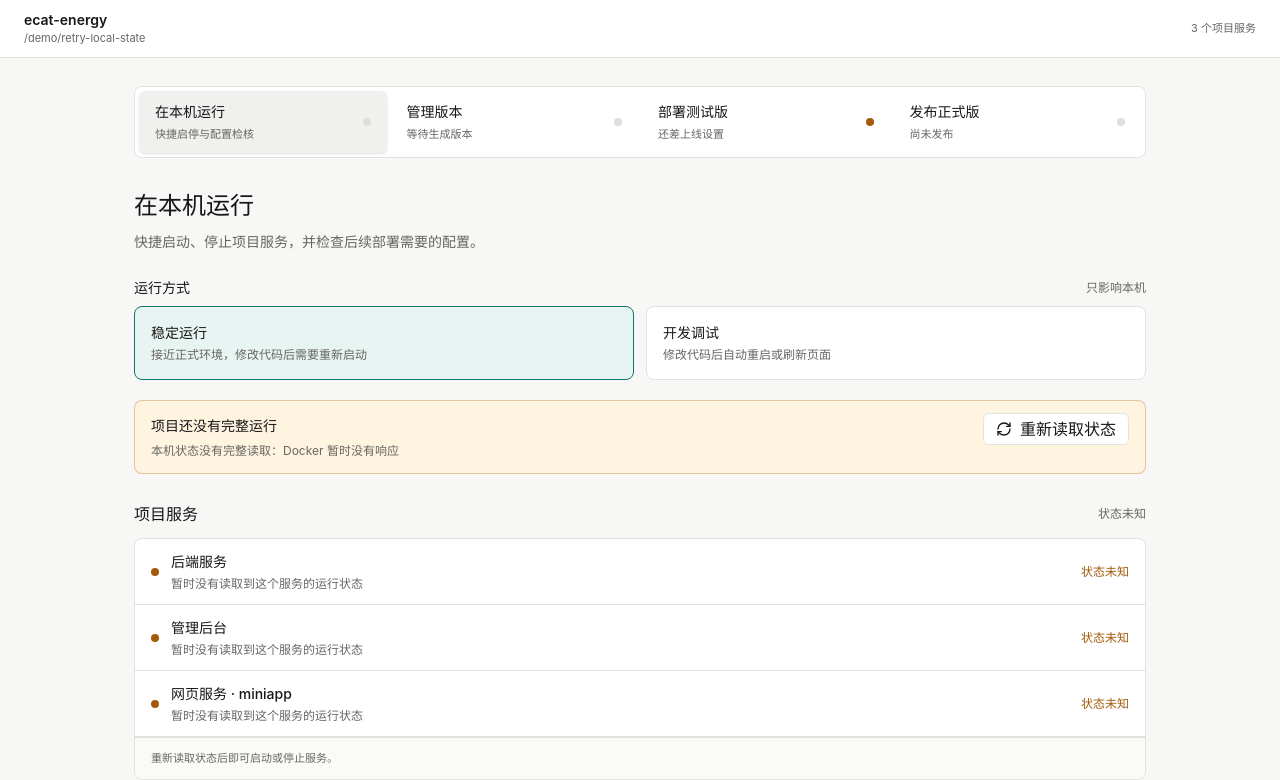
Scenario: ProductWorkspace blocking states › keeps unknown local state honest and lets the user retry
This screenshot has width=1280, height=780.
Expected: the 1st text "状态未知" is shown, x1=1098 y1=506 x2=1146 y2=522
Expected: the button "一键启动全部" is not shown
Click the button "重新读取状态".
click(1056, 429)  # box x1=983 y1=413 x2=1129 y2=445
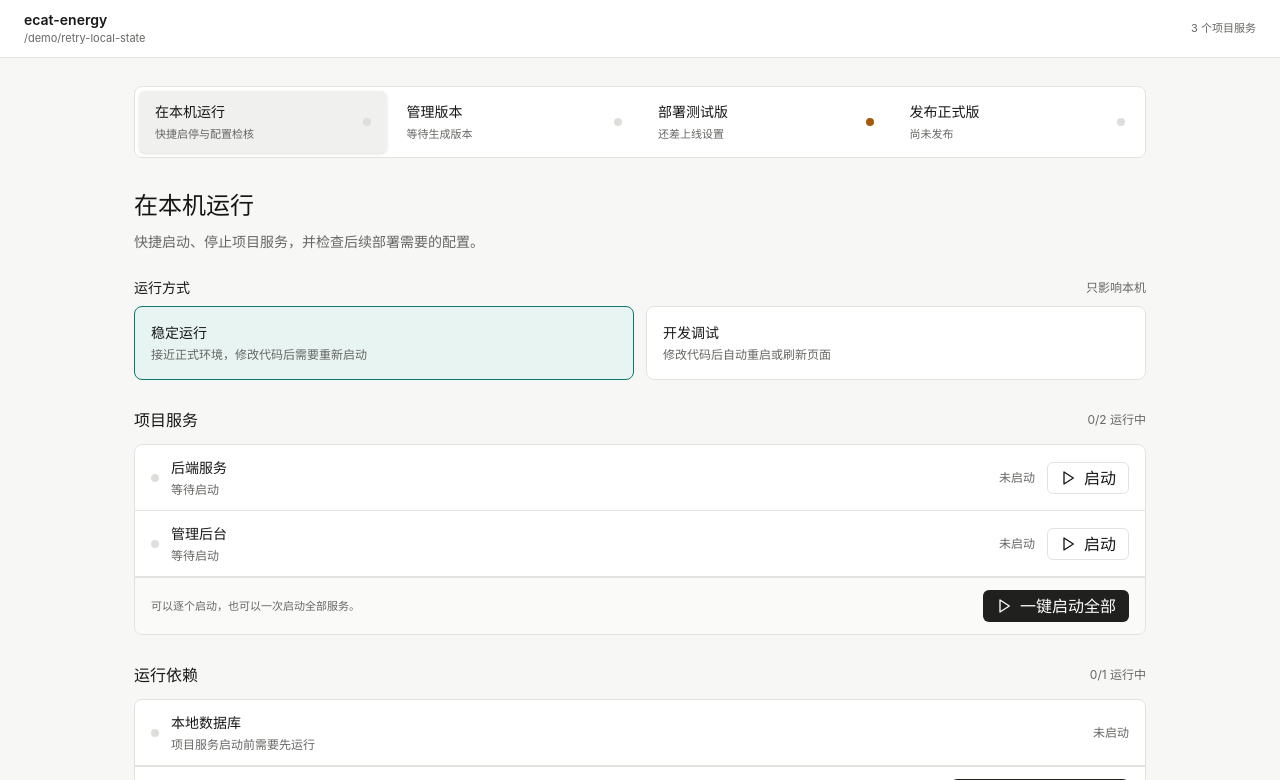
Expected: the button "一键启动全部" is enabled, x1=983 y1=590 x2=1129 y2=622
